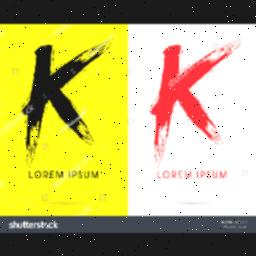k: (14, 34, 114, 148), (146, 38, 240, 156)
